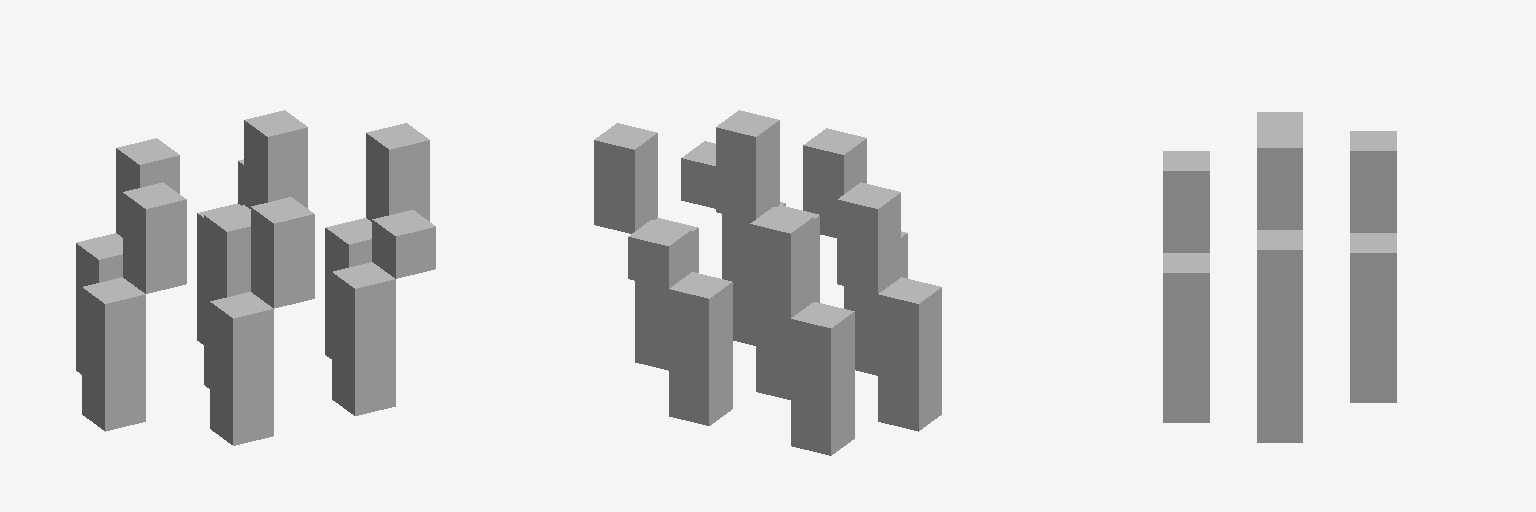
File: plant.obj
3 renders of one model, left to right at view 1: azimuth 30°, elevation 25°; view 2: azimuth 150°, elevation 25°; view 3: azimuth 270°, elevation 25°, orthographic.
Parts seen in each view (by area): view 1: object 1; view 2: object 1; view 3: object 1.
Boxes of the visible parts, x1=… form: object 1: x1=76, y1=110, x2=435, y2=445; object 1: x1=594, y1=110, x2=941, y2=455; object 1: x1=1163, y1=112, x2=1396, y2=442.
Bounding box in the file's own units: 0.8 × 0.6 × 0.5.